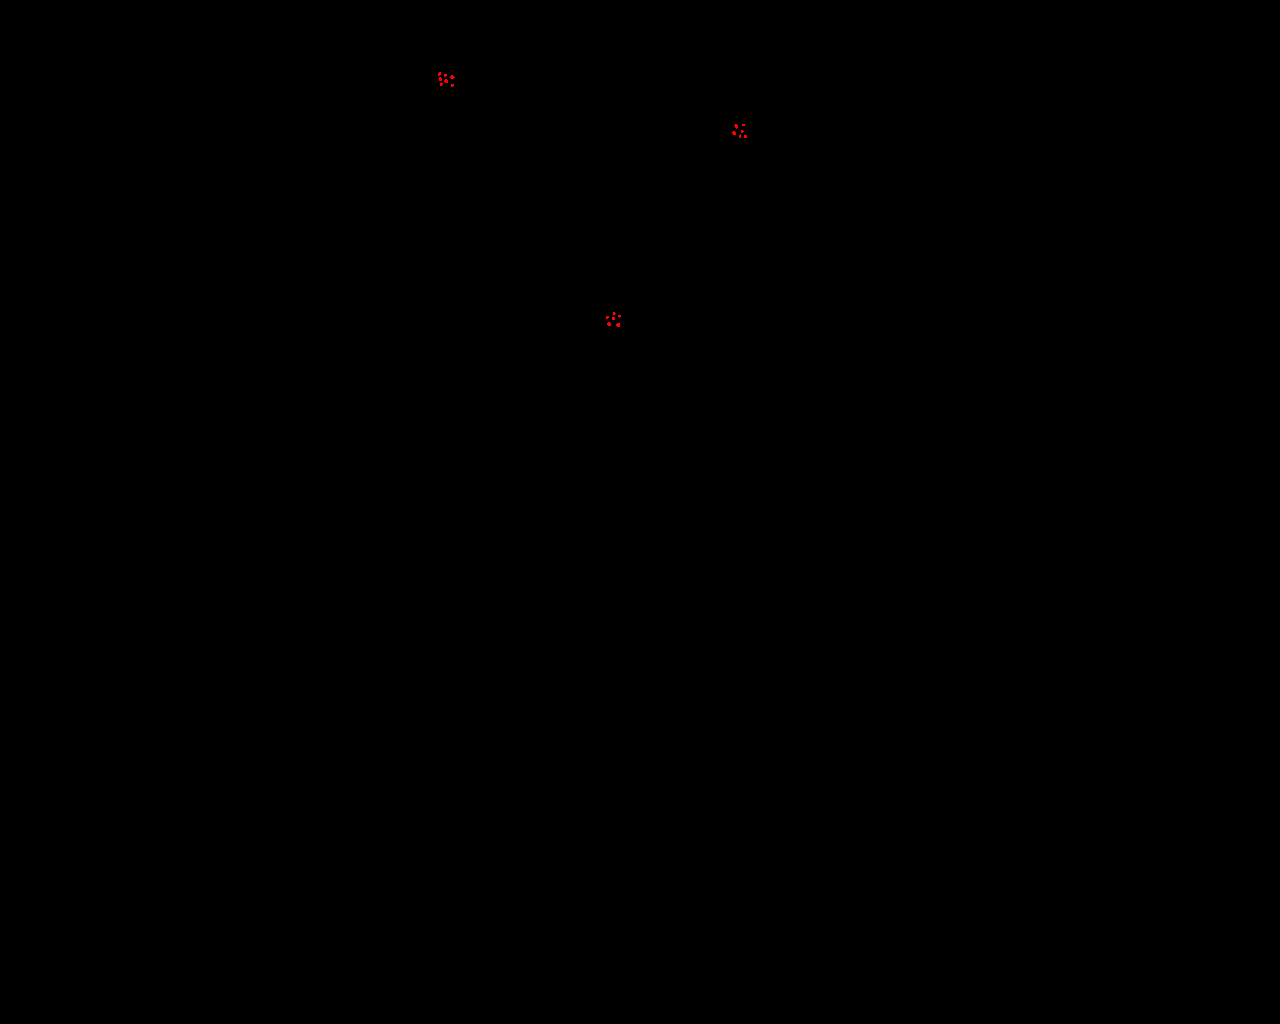Target: (450, 75, 455, 79), (734, 124, 738, 129), (607, 322, 611, 326), (438, 72, 441, 76), (439, 77, 442, 82), (444, 79, 448, 83), (732, 131, 736, 135), (616, 323, 620, 327), (444, 74, 447, 77), (440, 83, 443, 86), (741, 130, 744, 133), (744, 135, 747, 138), (618, 315, 621, 318), (606, 316, 609, 319), (612, 317, 615, 320), (739, 134, 741, 138), (451, 84, 453, 87), (742, 124, 745, 126), (613, 312, 616, 315)
